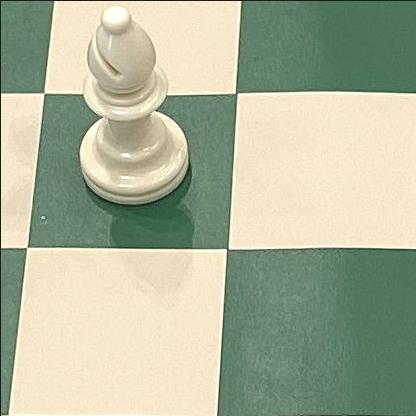white-bishop: (75, 2, 191, 208)
